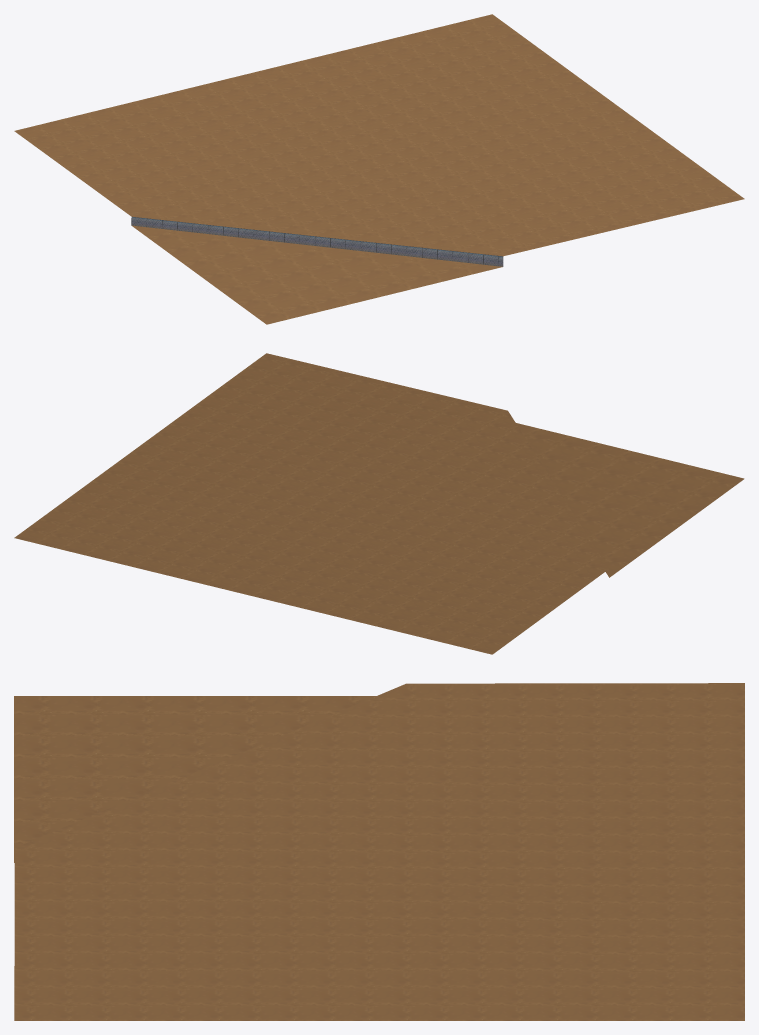
3 renders of one model, top to bottom at view 1: azimuth 30°, elevation 25°; view 2: azimuth 150°, elevation 25°; view 3: azimuth 270°, elevation 25°, orthographic. The views are drawn at different scales.
Parts seen in each view (by area): view 1: D1; view 2: D1; view 3: D1.
Boxes of the visible parts, x1,y1,x2,y2 form: D1: (14, 14, 744, 324); D1: (14, 353, 744, 654); D1: (14, 683, 744, 1020).
Size of the model in its own units: 31248 by 652 by 28579.
Materials: 2 (2 with a texture image).
